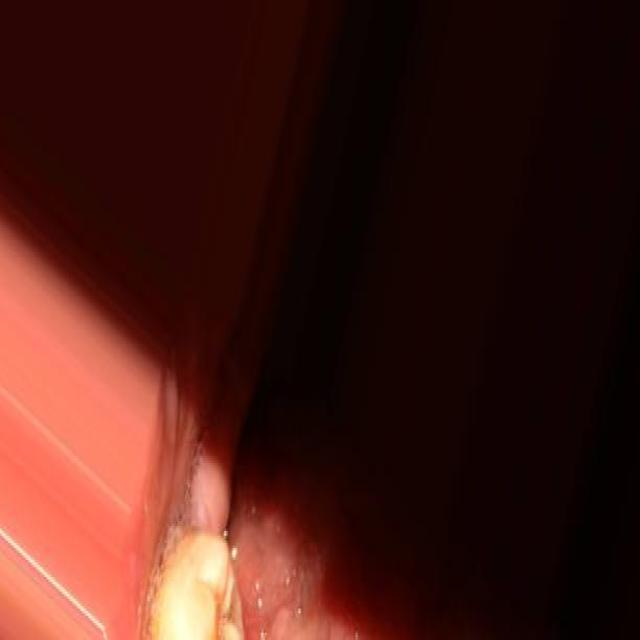caries: (187, 522, 250, 640)
